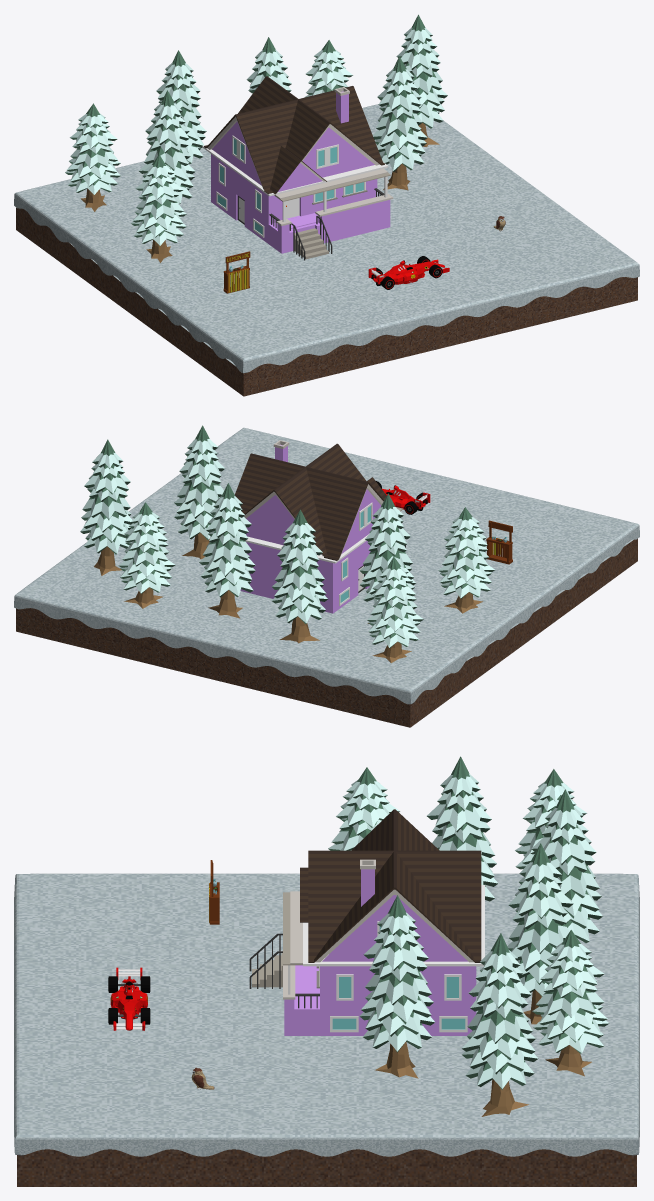
3 views of the same model, one above another, from view 1: azimuth 30°, elevation 25°; view 2: azimuth 150°, elevation 25°; view 3: azimuth 270°, elevation 25° (orthographic). The views are drawn at different scales.
Parts seen in each view (by area): view 1: Cube.003, Cube.391, VEHICLES_FORMULA_1, OBJRANDOM_LEMONADE_STAND; view 2: Cube.003, Cube.391, OBJRANDOM_LEMONADE_STAND, VEHICLES_FORMULA_1; view 3: Cube.003, Cube.391, VEHICLES_FORMULA_1.
Part boxes in pixels (left/top/right/bottom): Cube.003: left=14, top=14, right=639, bottom=396; Cube.391: left=202, top=76, right=393, bottom=260; VEHICLES_FORMULA_1: left=368, top=256, right=449, bottom=289; OBJRANDOM_LEMONADE_STAND: left=223, top=251, right=250, bottom=293; Cube.003: left=14, top=425, right=639, bottom=727; Cube.391: left=235, top=440, right=405, bottom=613; OBJRANDOM_LEMONADE_STAND: left=486, top=520, right=512, bottom=564; VEHICLES_FORMULA_1: left=376, top=481, right=430, bottom=514; Cube.003: left=14, top=756, right=639, bottom=1186; Cube.391: left=249, top=809, right=484, bottom=1035; VEHICLES_FORMULA_1: left=108, top=967, right=150, bottom=1030.
Size of the model in its own units: 4040 by 1700 by 4040.
38 materials, 3 textured.
